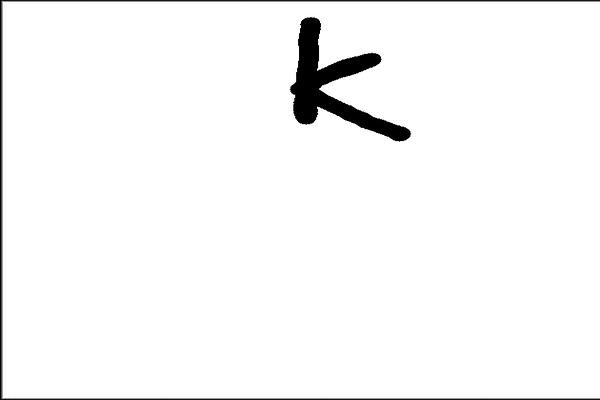K: (284, 8, 417, 151)
